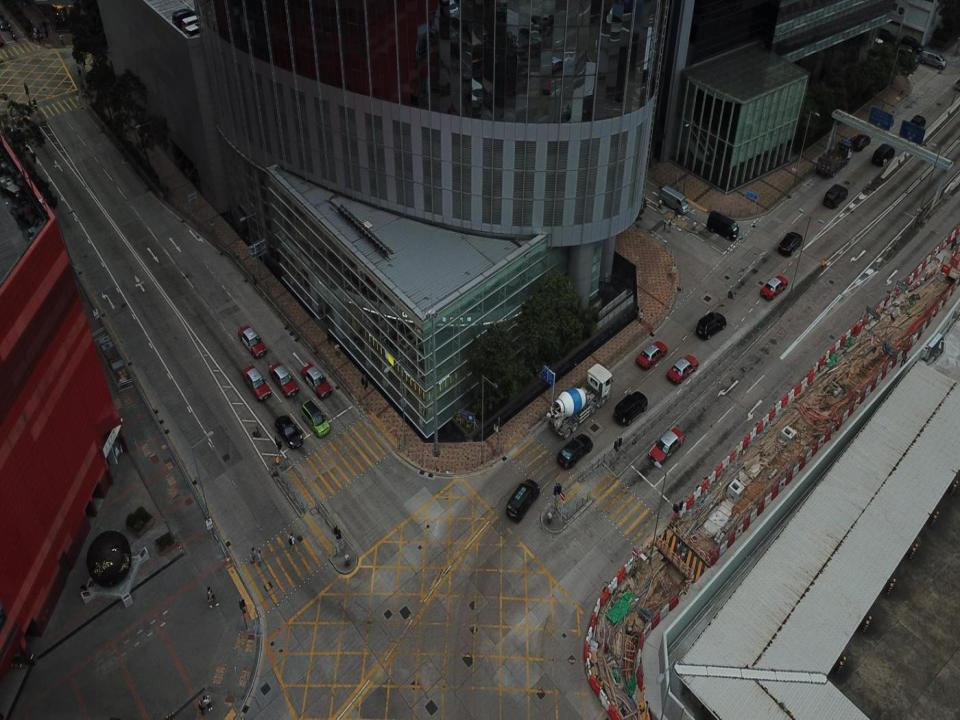car: (505, 478, 541, 523), (557, 433, 594, 471), (648, 427, 684, 466), (613, 390, 648, 426), (300, 363, 332, 399), (241, 364, 271, 402), (301, 398, 330, 437), (274, 412, 302, 451), (269, 361, 299, 397), (666, 354, 699, 386), (634, 339, 667, 369), (238, 324, 267, 358), (822, 182, 850, 212), (760, 273, 788, 302), (696, 312, 726, 339), (778, 230, 803, 257), (872, 144, 895, 166), (849, 132, 871, 152), (906, 114, 926, 132)
truck: (545, 363, 612, 442)
van: (706, 210, 738, 242), (658, 185, 688, 213), (919, 48, 946, 72)
